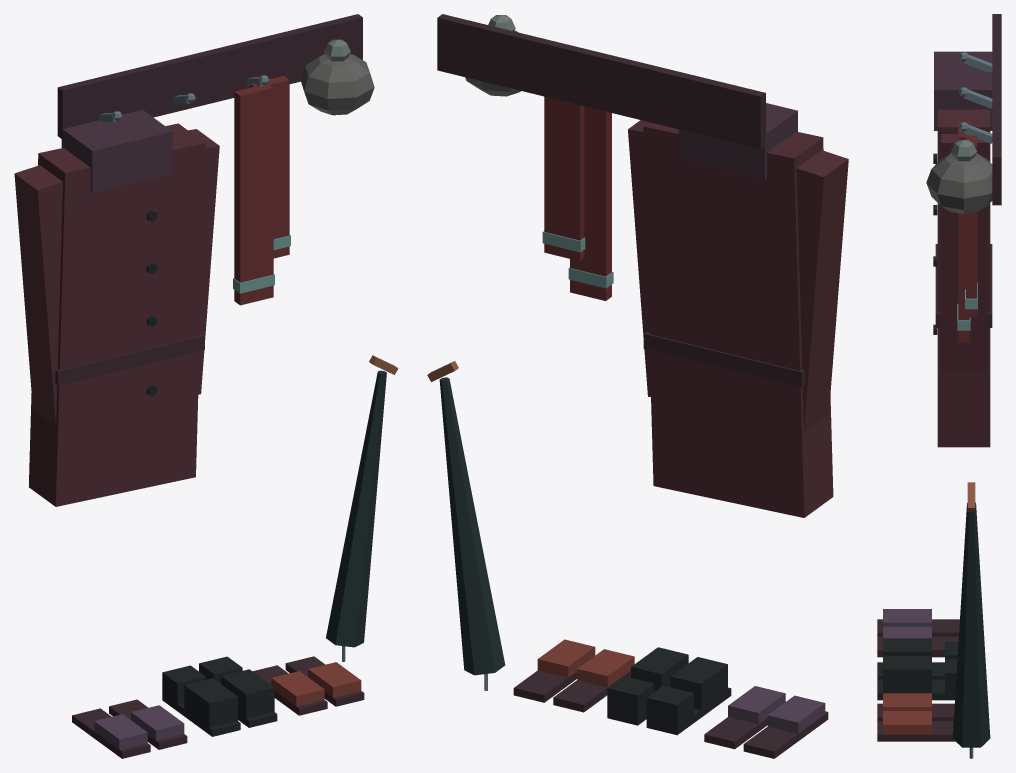
Rendered from cuier.glb.
3 views of the same model, side by side, from view 1: azimuth 30°, elevation 25°; view 2: azimuth 150°, elevation 25°; view 3: azimuth 270°, elevation 25° (orthographic). The views are drawn at different scales.
Parts seen in each view (by area): view 1: Cuier; view 2: Cuier; view 3: Cuier.
Part boxes in pixels (left/top/right/bottom): Cuier: left=14, top=14, right=398, bottom=758; Cuier: left=427, top=14, right=848, bottom=758; Cuier: left=877, top=14, right=1001, bottom=758.
Size of the model in its own units: 1.12 by 1.8 by 0.33.
